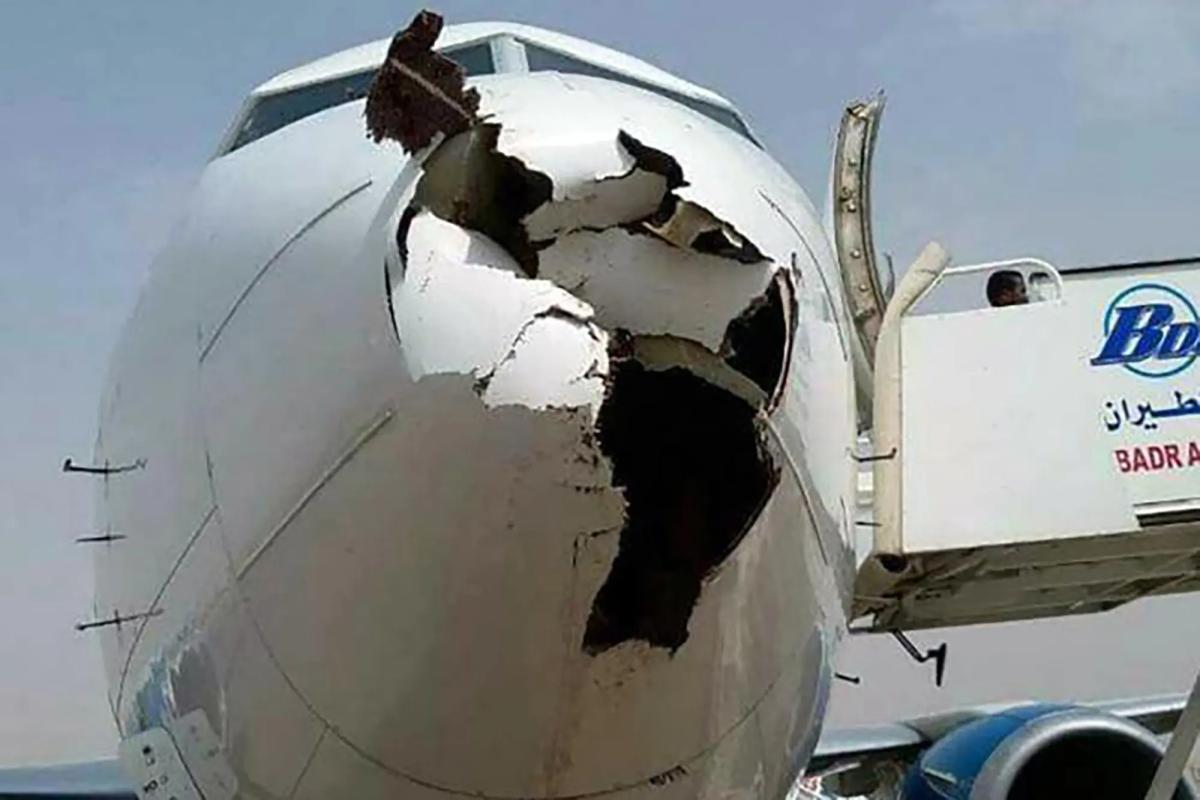Fuselage_damage: (362, 7, 809, 670)
